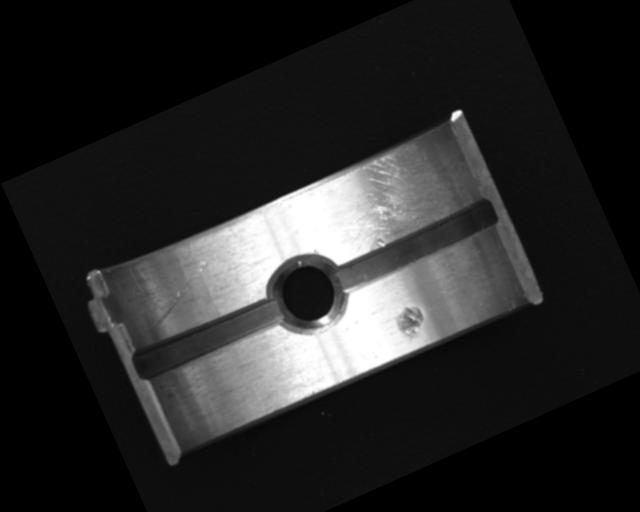bruise: (392, 301, 432, 345)
gap: (324, 194, 501, 298), (130, 292, 285, 385)
hole: (258, 242, 355, 344)
nick: (136, 256, 225, 330)
scratch: (298, 123, 476, 268)
